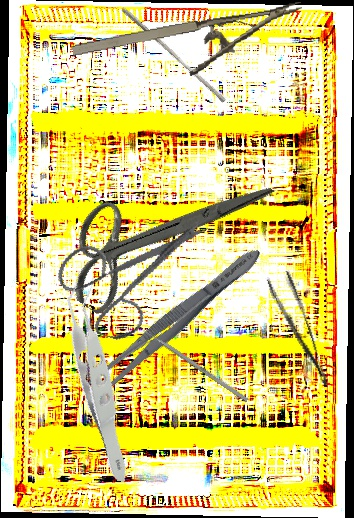Dressing Forceps: (77, 240, 268, 407), (265, 269, 331, 394)
Iris Scissors: (45, 112, 276, 359), (43, 181, 214, 358)
Needle Holder: (70, 1, 310, 94)
Pusher: (117, 6, 230, 104), (134, 322, 249, 403)
Tissue Forceps: (18, 270, 185, 484)
